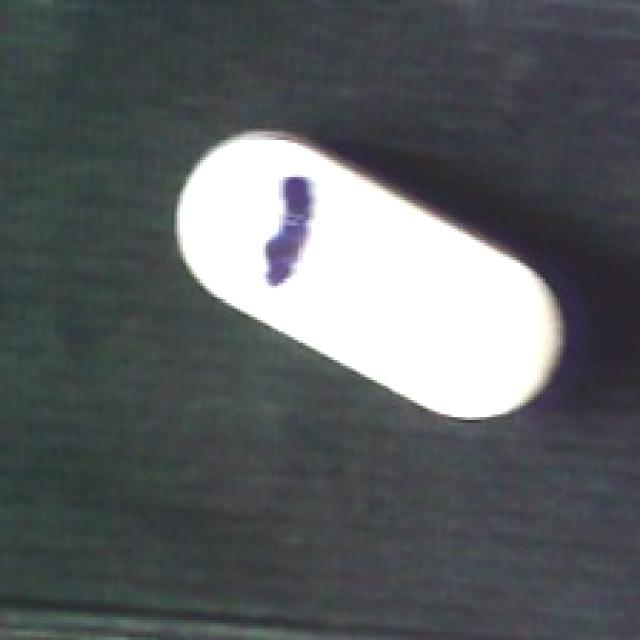defected: (172, 131, 577, 425)
